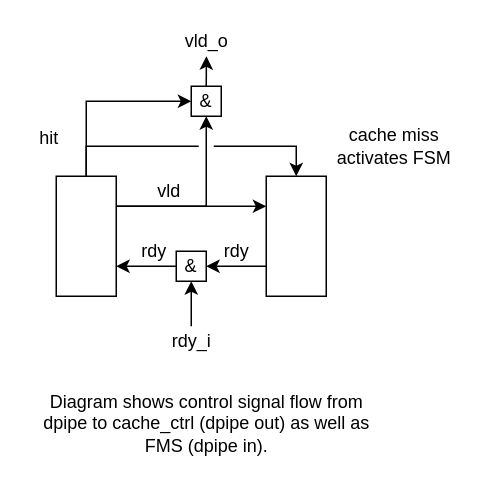
The diagram is 486 pixels wide and 486 high, and some of its shapes have lost their labels. Here are the shapes that lost their labels. From the top down, the centre of each, then its label:
At pixel 85 235: "dpipe".
At pixel 295 235: "FSM".
